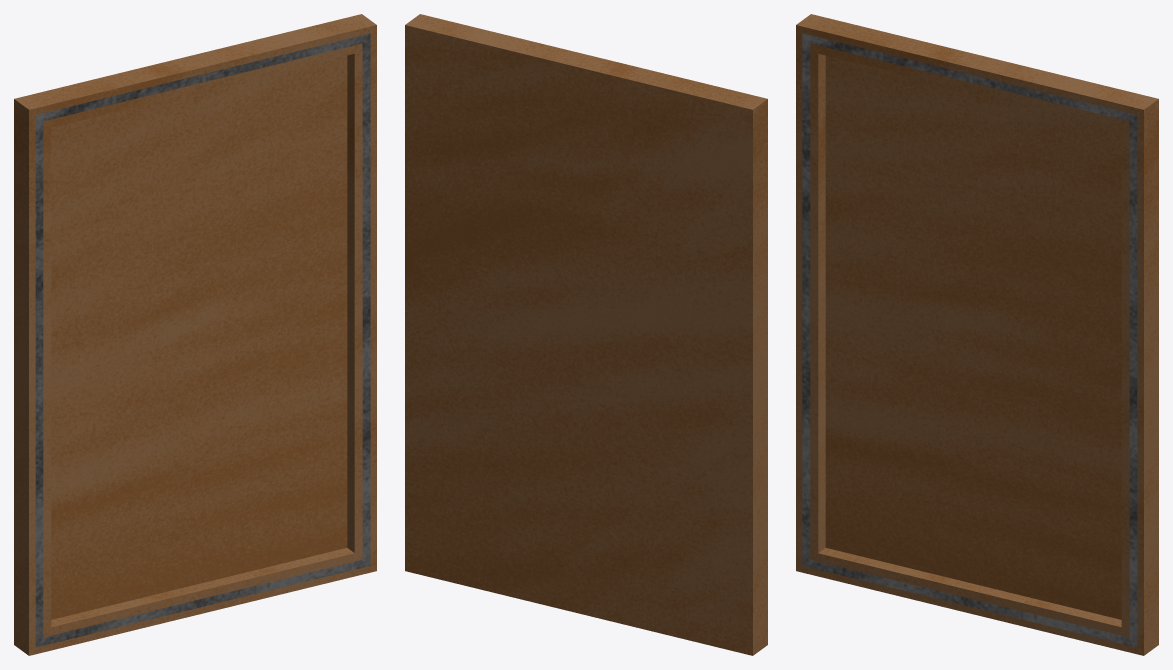
The model's file is CartaPreta.fbx.
The picture shows the model from 3 angles, left to right: view 1: azimuth 30°, elevation 25°; view 2: azimuth 150°, elevation 25°; view 3: azimuth 330°, elevation 25°; orthographic projection.
Visible parts, largest first — view 1: CartaPreta; view 2: CartaPreta; view 3: CartaPreta.
Boxes of the visible parts, x1,y1,x2,y2 form: CartaPreta: (14, 14, 376, 655); CartaPreta: (405, 14, 767, 655); CartaPreta: (796, 14, 1158, 655).
Bounding box in the file's own units: 200 × 300 × 15.
